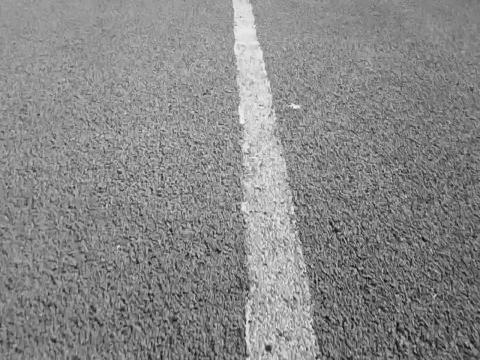Lines: (231, 0, 320, 360)
